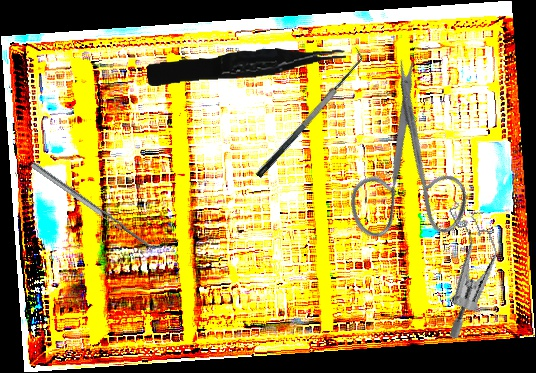Iris Scissors: (290, 50, 514, 276)
Spatula Surgical: (245, 46, 372, 180), (30, 156, 164, 256)
Speculum: (406, 192, 523, 341)
Tissue Forceps: (146, 44, 347, 87)
